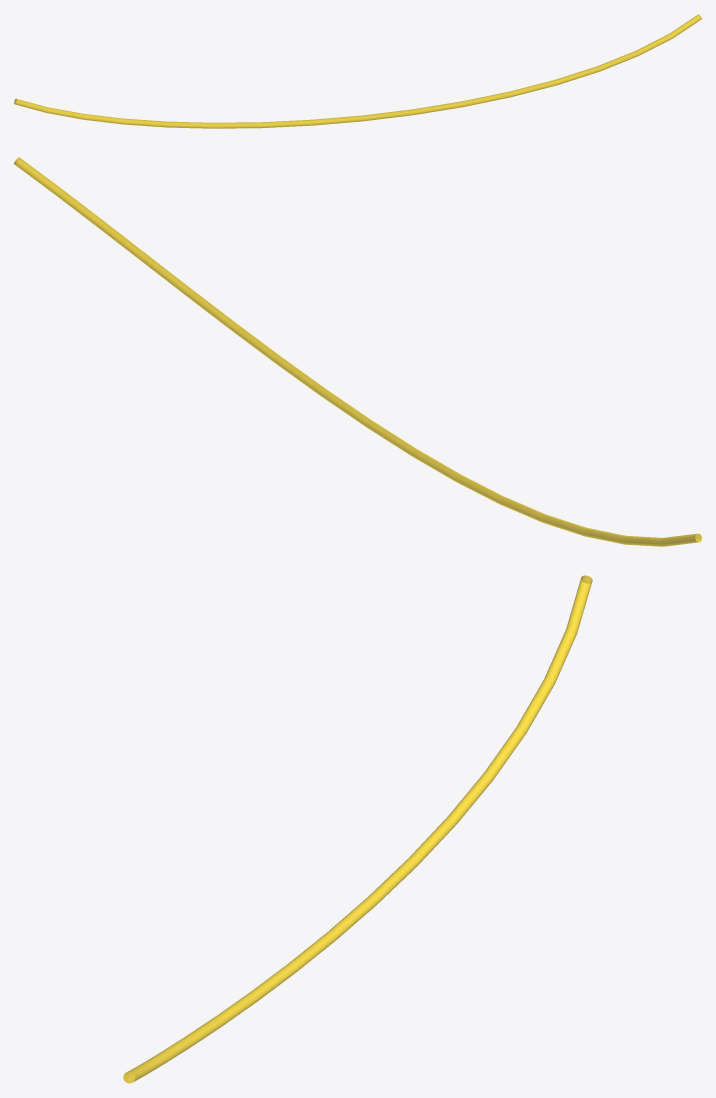
The model's file is Event_27938768_track_81.fbx.
3 views of the same model, one above another, from view 1: azimuth 30°, elevation 25°; view 2: azimuth 150°, elevation 25°; view 3: azimuth 270°, elevation 25° (orthographic). The views are drawn at different scales.
Visible parts, largest first — view 1: Model; view 2: Model; view 3: Model.
Part boxes in pixels (<box>): Model: <box>14,14,701,128</box>; Model: <box>14,157,701,546</box>; Model: <box>123,575,592,1083</box>.
Bounding box in the file's own units: 4.41 × 0.5605 × 1.56.
